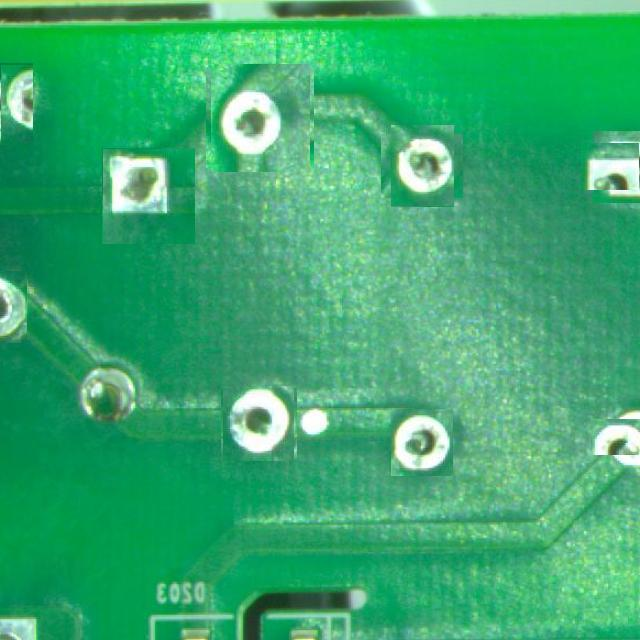lack_of_part: (208, 66, 312, 170), (102, 148, 195, 244), (222, 387, 296, 460), (386, 130, 459, 202), (390, 410, 455, 474), (586, 137, 640, 196), (0, 64, 33, 146), (597, 412, 640, 462), (0, 271, 27, 343)
